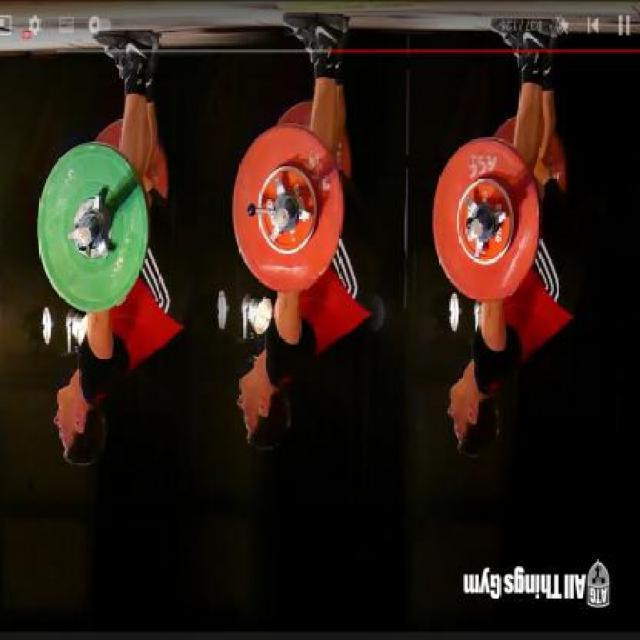Barbell: (468, 213, 489, 250), (74, 220, 94, 253), (272, 202, 294, 232)
